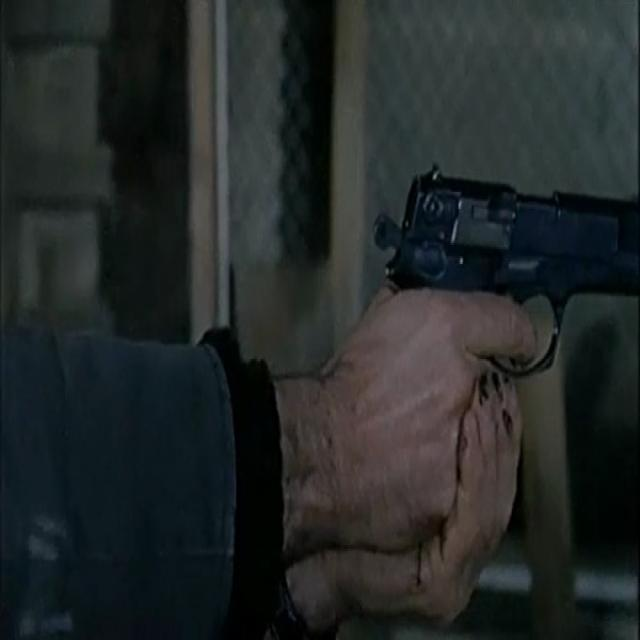weapons: (370, 96, 640, 490)
